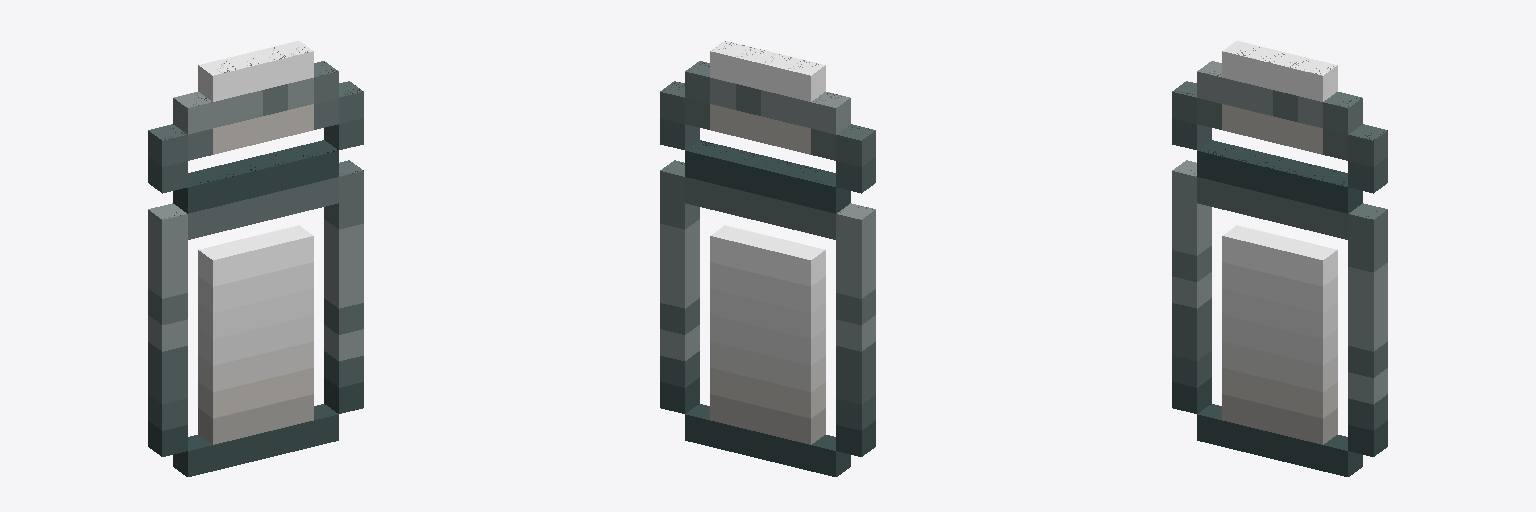
3 renders of one model, left to right at view 1: azimuth 30°, elevation 25°; view 2: azimuth 150°, elevation 25°; view 3: azimuth 330°, elevation 25°, orthographic.
Size of the model in its own units: 0.5 by 0.9375 by 0.0625.
1 materials, 1 textured.